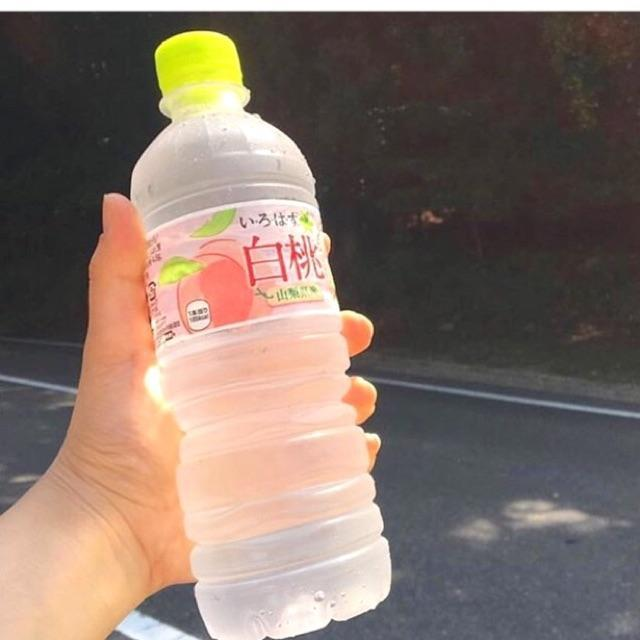bottle: (118, 15, 404, 636)
